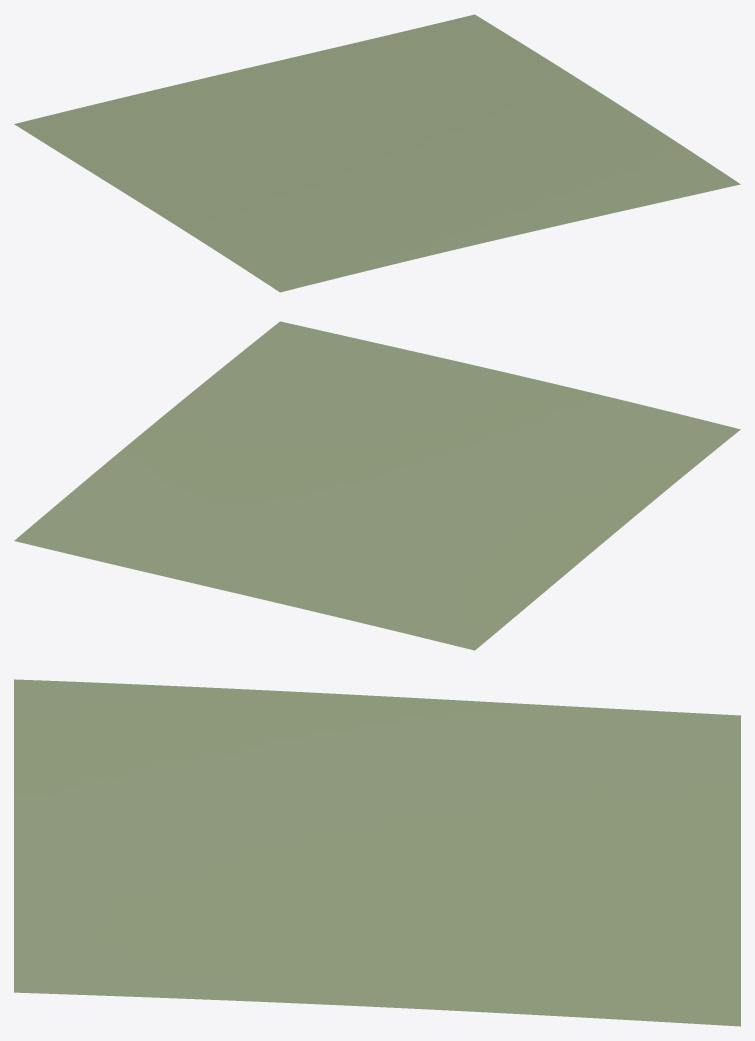
File: expanse-4-9.glb
3 renders of one model, top to bottom at view 1: azimuth 30°, elevation 25°; view 2: azimuth 150°, elevation 25°; view 3: azimuth 270°, elevation 25°, orthographic. The views are drawn at different scales.
Parts seen in each view (by area): view 1: expanse-4-9; view 2: expanse-4-9; view 3: expanse-4-9.
Boxes of the visible parts, x1,y1,x2,y2 form: expanse-4-9: [14, 14, 740, 292]; expanse-4-9: [14, 321, 740, 650]; expanse-4-9: [14, 679, 740, 1026].
Size of the model in its own units: 256 by 15.69 by 256.
